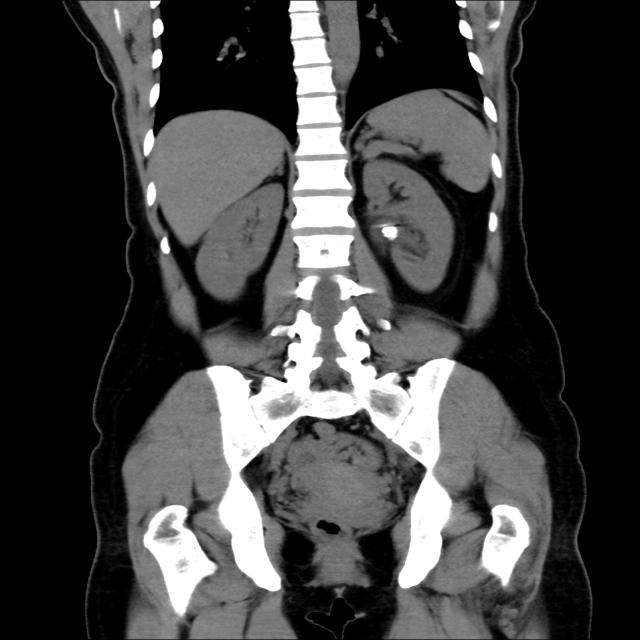kidneystone: (382, 226, 399, 240)
